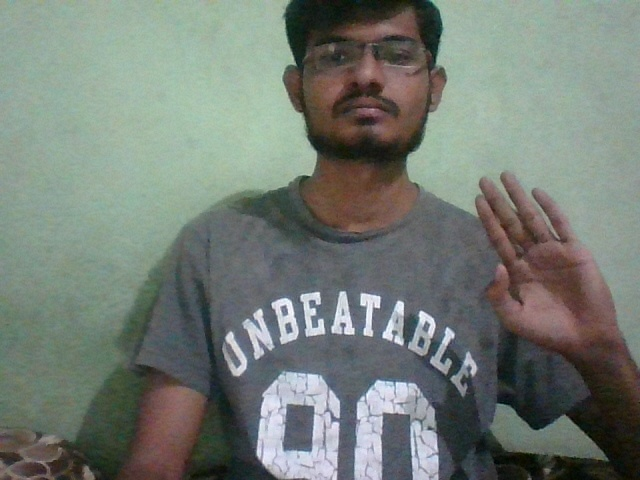Hello: (454, 165, 629, 348)
